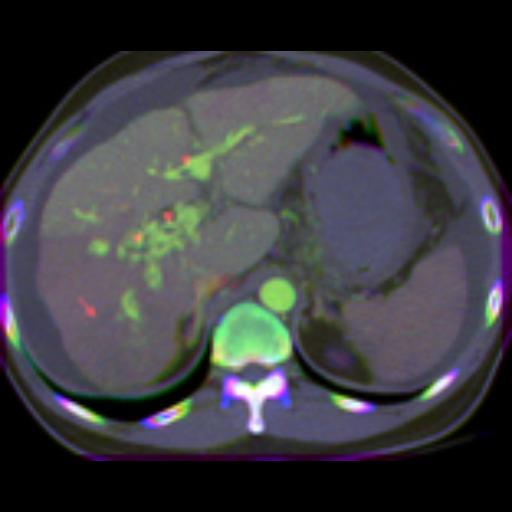Tumor: (116, 202, 208, 288)
